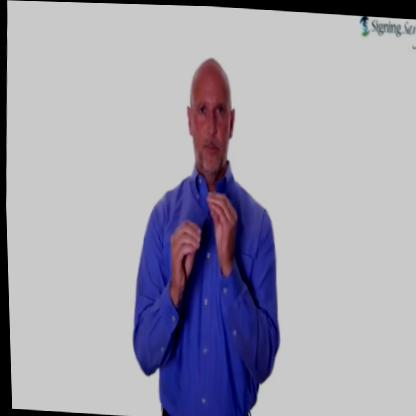Fix: (163, 167, 248, 303)
